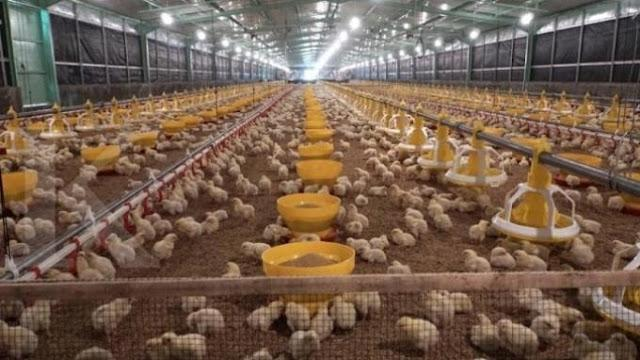chicken: (397, 317, 440, 353), (500, 319, 539, 355), (95, 296, 132, 332), (1, 321, 37, 357), (161, 332, 206, 359), (247, 301, 285, 332), (472, 312, 499, 350), (105, 234, 136, 267), (22, 299, 54, 330), (189, 309, 226, 335), (534, 314, 563, 343), (291, 331, 321, 358), (566, 235, 593, 265), (461, 248, 491, 274), (74, 256, 104, 280), (155, 233, 179, 261), (175, 216, 202, 240), (230, 196, 254, 223), (517, 252, 549, 271), (241, 241, 270, 260), (492, 248, 516, 269), (391, 228, 416, 248), (471, 217, 490, 241), (430, 211, 451, 232), (361, 247, 386, 262), (346, 236, 369, 250)
